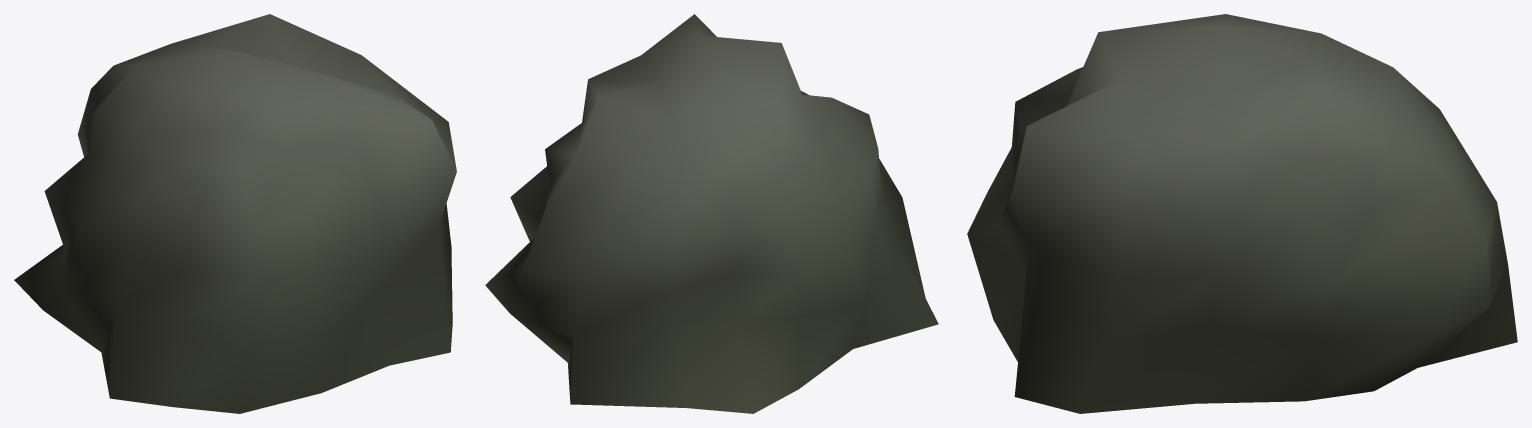
The model's file is WE02_Brush46.fbx.
3 renders of one model, left to right at view 1: azimuth 30°, elevation 25°; view 2: azimuth 150°, elevation 25°; view 3: azimuth 270°, elevation 25°, orthographic. The views are drawn at different scales.
Visible parts, largest first — view 1: WE02_Brush46; view 2: WE02_Brush46; view 3: WE02_Brush46.
Boxes of the visible parts, x1,y1,x2,y2 form: WE02_Brush46: (14,14,456,413); WE02_Brush46: (485,14,938,413); WE02_Brush46: (967,14,1517,413).
Size of the model in its own units: 6.97 by 5.05 by 8.37.
